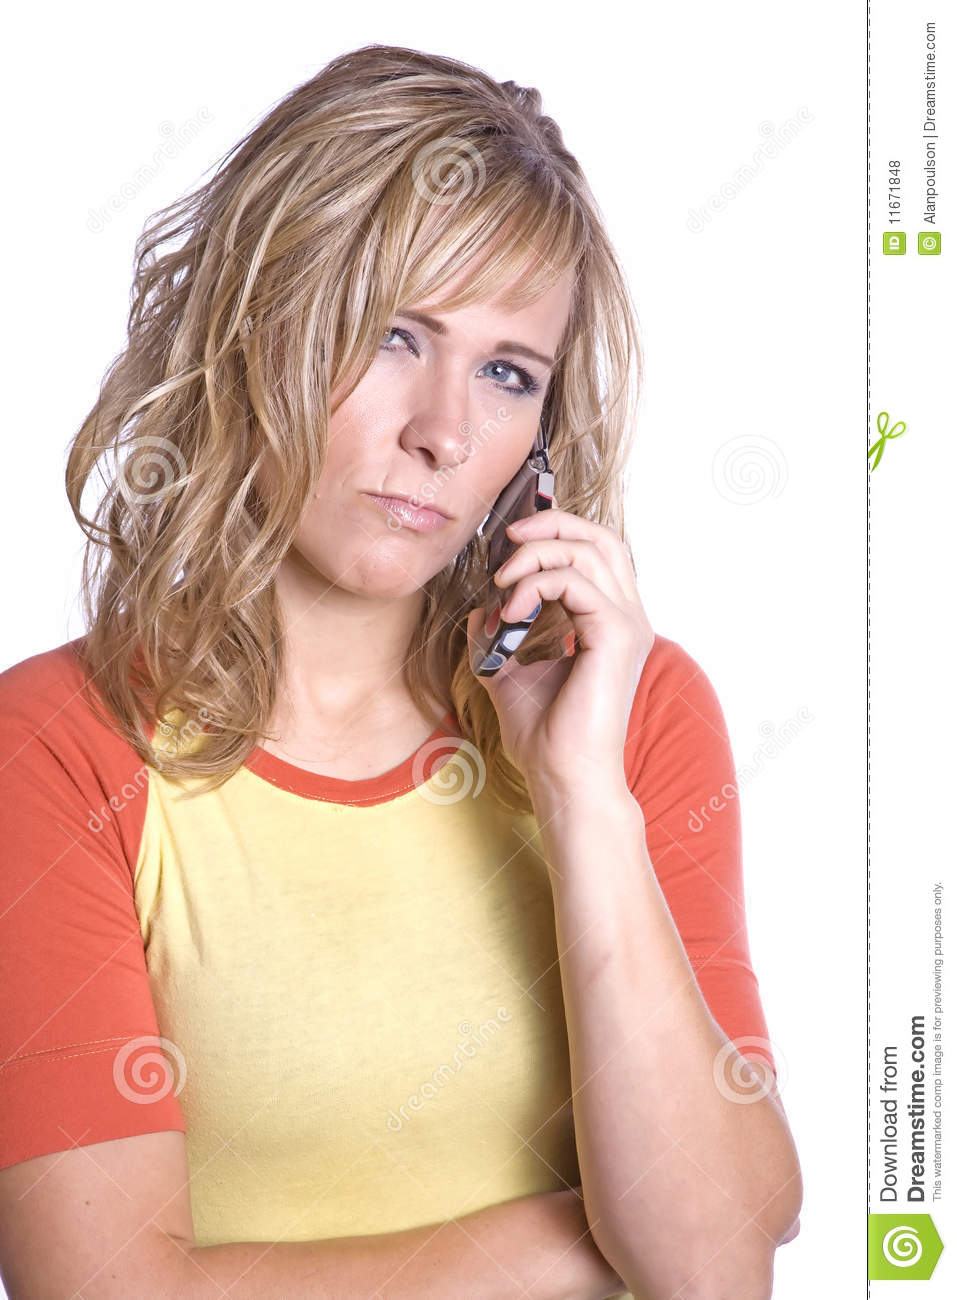phone: (474, 395, 561, 683)
talk: (274, 306, 659, 840)
